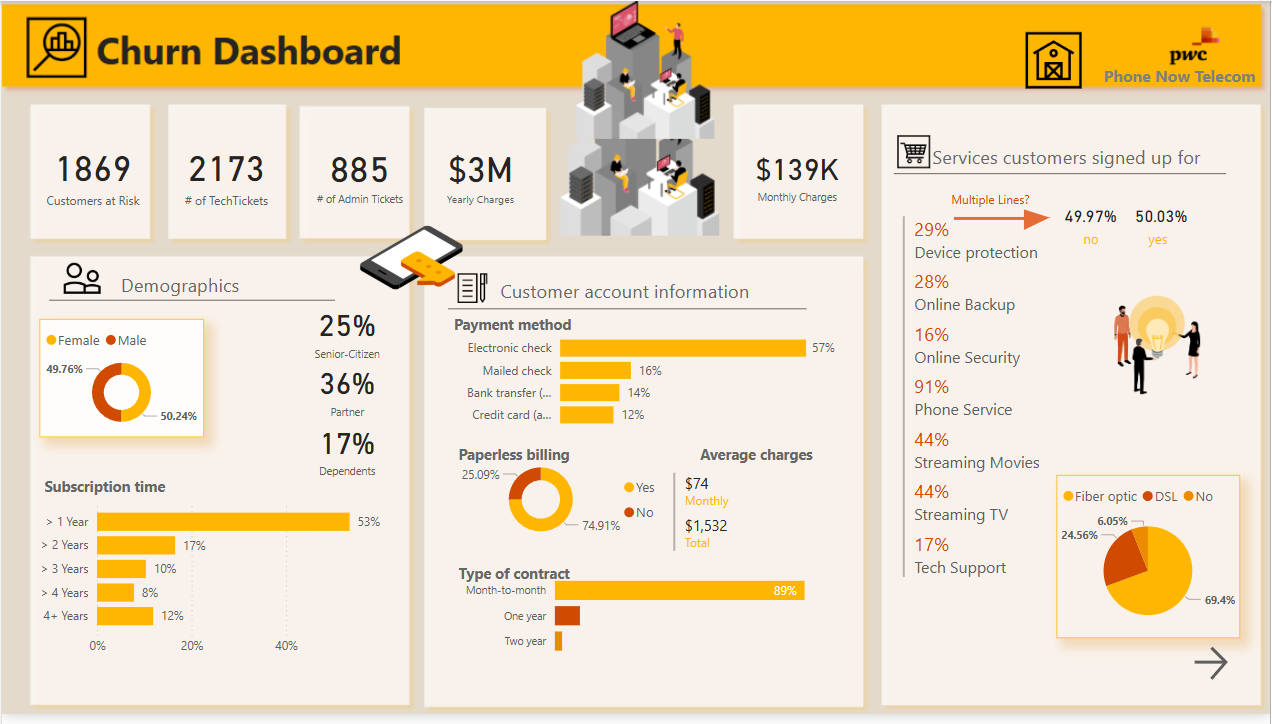

The page's visual inventory and layout, read from the dashboard file:
{"tool":"powerbi","page":{"name":"Churn","canvas":[1280,720],"ordinal":1},"visuals":[{"type":"card","fields":{"Values":["Churn.Count of Churn for Yes"]},"box":[37.9,133.3,107.5,80.3],"z":0},{"type":"card","fields":{"Values":["Sum(Churn.numTechTickets)"]},"box":[172.6,133.3,107.5,80.3],"z":1000},{"type":"card","fields":{"Values":["Sum(Churn.numAdminTickets)"]},"box":[308.9,133.3,104.5,80.3],"z":2000},{"type":"card","fields":{"Values":["Sum(Churn.TotalCharges)"]},"box":[433.1,133.3,99.9,80.3],"z":3000},{"type":"card","fields":{"Values":["Sum(Churn.MonthlyCharges)"]},"box":[742.7,134.2,120.9,79.4],"z":4000},{"type":"textbox","box":[115.3,268.3,209.8,41.6],"z":5000},{"type":"basicShape","box":[37.8,283.5,308,37.8],"z":6000},{"type":"image","box":[47.2,258.9,68,41.6],"z":7000},{"type":"textbox","box":[37.8,474.3,313.7,35.9],"z":8000},{"type":"image","box":[355.7,204.3,114.3,108.6],"z":9000},{"type":"card","fields":{"Values":["Churn.SeniorCitizen in %"]},"box":[297.1,290,102.9,82.9],"z":10000},{"type":"card","fields":{"Values":["Churn.Partner in %"]},"box":[297.1,350,102.9,82.9],"z":11000},{"type":"card","fields":{"Values":["Churn.Dependents in %"]},"box":[297.1,410,102.9,81.4],"z":12000},{"type":"clusteredBarChart","fields":{"Category":["Churn.Loyalty"],"Y":["CountNonNull(Churn.Churn)"]},"box":[28.3,493.2,370.4,175.7],"z":13000},{"type":"textbox","box":[498.6,274.3,314.3,35.7],"z":14000},{"type":"basicShape","box":[440,290,381.4,40],"z":15000},{"type":"image","box":[451.4,270,47.1,40],"z":16000},{"type":"textbox","box":[451.4,310,314.3,35.7],"z":17000},{"type":"textbox","box":[455.7,441.4,204.3,35.7],"z":18000},{"type":"textbox","box":[455.7,561.4,314.3,35.7],"z":19000},{"type":"clusteredBarChart","fields":{"Category":["Churn.PaymentMethod"],"Y":["CountNonNull(Churn.PaymentMethod)"]},"box":[451.4,320,394.3,121.4],"z":20000},{"type":"textbox","box":[700,441.4,148.6,35.7],"z":21000},{"type":"multiRowCard","fields":{"Values":["Avg(Churn.MonthlyCharges)","Avg(Churn.TotalCharges)"]},"box":[672.9,471.4,121.4,90],"z":22000},{"type":"donutChart","fields":{"Y":["CountNonNull(Churn.PaperlessBilling)"],"Category":["Churn.PaperlessBilling"]},"box":[455.7,455.7,217.1,94.3],"z":23000},{"type":"clusteredBarChart","fields":{"Category":["Churn.Contract"],"Y":["CountNonNull(Churn.Contract)"]},"box":[455.7,561.4,390,110],"z":24000},{"type":"multiRowCard","fields":{"Values":["Churn.Device protection in %","Churn.Online Bacup in %","Churn.Online Sec. in %","Churn.Phone Service in %","Churn.Streaming Movies in %","Churn.Streaming TV in %","Churn.Tech Support in %"]},"box":[903.3,211.7,158.7,387.4],"z":25000},{"type":"textbox","box":[932.9,184.3,130,28.6],"z":26000},{"type":"basicShape","box":[951.4,205.7,98.6,27.1],"z":27000},{"type":"basicShape","box":[1022.9,194.3,40,50],"z":28000},{"type":"textbox","box":[933.6,139.8,315.6,35.9],"z":29000},{"type":"basicShape","box":[890.1,155,355.3,39.7],"z":30000},{"type":"image","box":[890.1,130.4,60.5,43.5],"z":31000},{"type":"textbox","box":[1062.9,225.7,72.9,35.7],"z":32000},{"type":"textbox","box":[1134.3,225.7,65.7,35.7],"z":33000},{"type":"card","fields":{"Values":["Churn.Multiple lines no in %"]},"box":[1062.9,194.3,71.4,48.6],"z":34000},{"type":"card","fields":{"Values":["Churn.Multiple Lines yes in %"]},"box":[1134.3,194.3,71.4,48.6],"z":35000},{"type":"donutChart","fields":{"Category":["Churn.gender"],"Y":["CountNonNull(Churn.gender)"]},"box":[37.8,321.3,166.3,119.1],"z":36000},{"type":"pieChart","fields":{"Y":["CountNonNull(Churn.InternetService)"],"Category":["Churn.InternetService"]},"box":[1063.9,478.1,185.2,164.4],"z":37000},{"type":"image","box":[1084.7,292.9,164.4,109.6],"z":38000},{"type":"textbox","box":[1107.3,59,172.6,46],"z":39000},{"type":"image","box":[1020.1,26,81.9,67.9],"z":40000},{"type":"actionButton","box":[1197.8,646.8,49.9,43.9],"z":41000}]}

Visuals, with their boxes in screenshot pixels (x1, y1, x2, y2), scaled from the page's 1280x720 canvas onto the 1272x724 screenshot:
card - Churn.Count of Churn for Yes: bbox(38, 134, 144, 215)
card - Sum(Churn.numTechTickets): bbox(172, 134, 278, 215)
card - Sum(Churn.numAdminTickets): bbox(307, 134, 411, 215)
card - Sum(Churn.TotalCharges): bbox(430, 134, 530, 215)
card - Sum(Churn.MonthlyCharges): bbox(738, 135, 858, 215)
textbox: bbox(115, 270, 323, 312)
basicShape: bbox(38, 285, 344, 323)
image: bbox(47, 260, 114, 302)
textbox: bbox(38, 477, 349, 513)
image: bbox(353, 205, 467, 315)
card - Churn.SeniorCitizen in %: bbox(295, 292, 398, 375)
card - Churn.Partner in %: bbox(295, 352, 398, 435)
card - Churn.Dependents in %: bbox(295, 412, 398, 494)
clusteredBarChart - Churn.Loyalty x CountNonNull(Churn.Churn): bbox(28, 496, 396, 673)
textbox: bbox(495, 276, 808, 312)
basicShape: bbox(437, 292, 816, 332)
image: bbox(449, 272, 495, 312)
textbox: bbox(449, 312, 761, 348)
textbox: bbox(453, 444, 656, 480)
textbox: bbox(453, 565, 765, 600)
clusteredBarChart - Churn.PaymentMethod x CountNonNull(Churn.PaymentMethod): bbox(449, 322, 840, 444)
textbox: bbox(696, 444, 843, 480)
multiRowCard - Avg(Churn.MonthlyCharges) x Avg(Churn.TotalCharges): bbox(669, 474, 789, 565)
donutChart - CountNonNull(Churn.PaperlessBilling) x Churn.PaperlessBilling: bbox(453, 458, 669, 553)
clusteredBarChart - Churn.Contract x CountNonNull(Churn.Contract): bbox(453, 565, 840, 675)
multiRowCard - Churn.Device protection in % x Churn.Online Bacup in %: bbox(898, 213, 1055, 602)
textbox: bbox(927, 185, 1056, 214)
basicShape: bbox(945, 207, 1043, 234)
basicShape: bbox(1017, 195, 1056, 246)
textbox: bbox(928, 141, 1241, 177)
basicShape: bbox(885, 156, 1238, 196)
image: bbox(885, 131, 945, 175)
textbox: bbox(1056, 227, 1129, 263)
textbox: bbox(1127, 227, 1192, 263)
card - Churn.Multiple lines no in %: bbox(1056, 195, 1127, 244)
card - Churn.Multiple Lines yes in %: bbox(1127, 195, 1198, 244)
donutChart - Churn.gender x CountNonNull(Churn.gender): bbox(38, 323, 203, 443)
pieChart - CountNonNull(Churn.InternetService) x Churn.InternetService: bbox(1057, 481, 1241, 646)
image: bbox(1078, 295, 1241, 405)
textbox: bbox(1100, 59, 1271, 106)
image: bbox(1014, 26, 1095, 94)
actionButton: bbox(1190, 650, 1240, 695)
